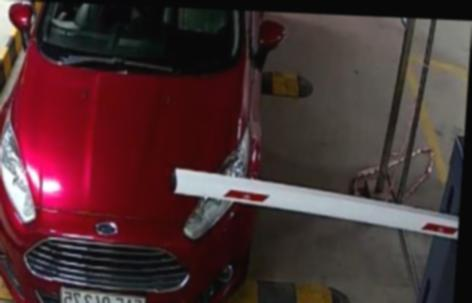License_Plate: (56, 282, 150, 303)
